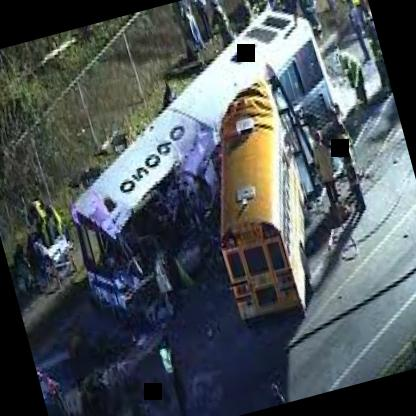accident: (33, 49, 372, 385)
